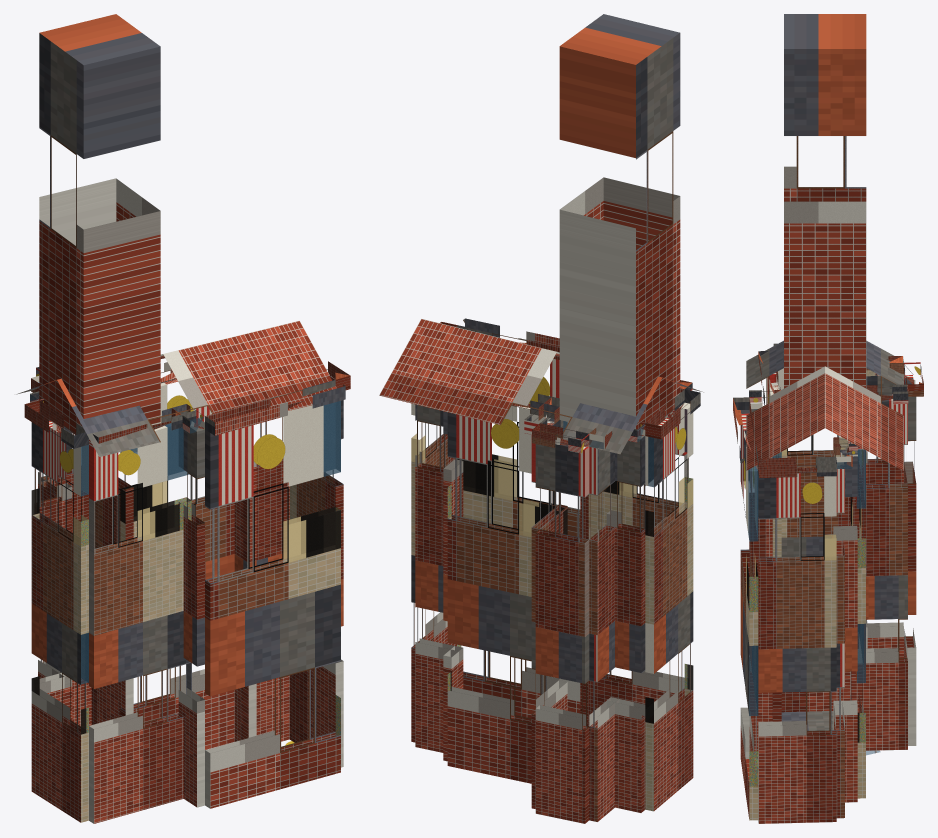
3 views of the same model, side by side, from view 1: azimuth 30°, elevation 25°; view 2: azimuth 150°, elevation 25°; view 3: azimuth 270°, elevation 25° (orthographic). The views are drawn at different scales.
Visible parts, largest first — view 1: 1106965493__chimney_0_xb, 1106965493__wall_0_xb, 1106965493__wall_2_xb, 1106965493__wall_3_xb, 1106965493_roof_-1_xb, 1106965493__wall_8_xb, 1106965493__wall_1_xb, 1106965493__wall_11_xb, 1106965493__wall_10_xb, 1106965493__wall_0_xf, 1106965493__wall_7_xb, 1106965493__cornice_0 (+9 smaller); view 2: 1106965493__chimney_0_xb, 1106965493__wall_8_xb, 1106965493__wall_6_xb, 1106965493__wall_3_xb, 1106965493_roof_1_xb, 1106965493__wall_4_xb, 1106965493__wall_10_xb, 1106965493__wall_5_xb, 1106965493__wall_0_xb, 1106965493__wall_2_xb, 1106965493__wall_11_xb, 1106965493__wall_7_xb (+8 smaller); view 3: 1106965493__chimney_0_xb, 1106965493__wall_11_xb, 1106965493__wall_7_xb, 1106965493_roof_-1_xb, 1106965493__wall_0_xb, 1106965493_roof_1_xb, 1106965493__wall_3_xb, 1106965493__wall_9_xb, 1106965493__wall_6_xb, 1106965493__wall_8_xb, 1106965493__wall_10_xb, 1106965493__wall_5_xb (+9 smaller).
Part boxes in pixels (<box>): 1106965493__chimney_0_xb: <box>39,14,160,434</box>; 1106965493__wall_0_xb: <box>205,401,340,808</box>; 1106965493__wall_2_xb: <box>89,423,191,823</box>; 1106965493__wall_3_xb: <box>31,415,88,822</box>; 1106965493_roof_-1_xb: <box>57,320,336,456</box>; 1106965493__wall_8_xb: <box>120,382,234,749</box>; 1106965493__wall_1_xb: <box>178,425,204,807</box>; 1106965493__wall_11_xb: <box>289,400,343,767</box>; 1106965493__wall_10_xb: <box>243,417,289,741</box>; 1106965493__wall_0_xf: <box>284,401,340,734</box>; 1106965493__wall_7_xb: <box>91,474,133,724</box>; 1106965493__cornice_0: <box>205,380,345,435</box>; 1106965493__chimney_0_xb: <box>559,14,680,437</box>; 1106965493__wall_8_xb: <box>447,406,567,783</box>; 1106965493__wall_6_xb: <box>535,440,589,823</box>; 1106965493__wall_3_xb: <box>645,402,693,811</box>; 1106965493_roof_1_xb: <box>379,319,662,454</box>; 1106965493__wall_4_xb: <box>606,436,645,812</box>; 1106965493__wall_10_xb: <box>415,404,463,752</box>; 1106965493__wall_5_xb: <box>589,447,619,821</box>; 1106965493__wall_0_xb: <box>457,359,580,718</box>; 1106965493__wall_2_xb: <box>588,409,688,725</box>; 1106965493__wall_11_xb: <box>411,403,457,742</box>; 1106965493__wall_7_xb: <box>531,418,567,808</box>; 1106965493__chimney_0_xb: <box>784,14,866,388</box>; 1106965493__wall_11_xb: <box>758,473,836,823</box>; 1106965493__wall_7_xb: <box>850,399,907,750</box>; 1106965493_roof_-1_xb: <box>746,340,824,470</box>; 1106965493__wall_0_xb: <box>740,410,758,820</box>; 1106965493_roof_1_xb: <box>825,340,903,470</box>; 1106965493__wall_3_xb: <box>775,368,850,712</box>; 1106965493__wall_9_xb: <box>833,449,857,802</box>; 1106965493__wall_6_xb: <box>904,375,916,745</box>; 1106965493__wall_8_xb: <box>850,443,865,798</box>; 1106965493__wall_10_xb: <box>834,449,844,818</box>; 1106965493__wall_5_xb: <box>858,373,903,658</box>.
Bounding box in the file's own units: 0.5331 × 1.4 × 0.3468.
Materials: 1 (1 with a texture image).
